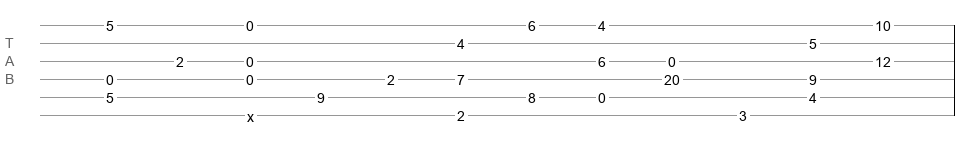0: (106, 72, 114, 82), (246, 72, 254, 82), (246, 54, 254, 64), (246, 18, 254, 28), (598, 90, 606, 100), (668, 54, 676, 64)
10: (875, 18, 891, 28)
12: (875, 54, 891, 64)
2: (176, 54, 184, 64), (387, 72, 395, 82), (457, 108, 465, 118)
20: (664, 72, 680, 82)
3: (739, 108, 747, 118)
4: (457, 36, 465, 46), (598, 18, 606, 28), (809, 90, 817, 100)
5: (106, 90, 114, 100), (106, 18, 114, 28), (809, 36, 817, 46)
6: (528, 18, 536, 28), (598, 54, 606, 64)
7: (457, 72, 465, 82)
8: (528, 90, 536, 100)
9: (317, 90, 325, 100), (809, 72, 817, 82)
x: (247, 109, 254, 117)
